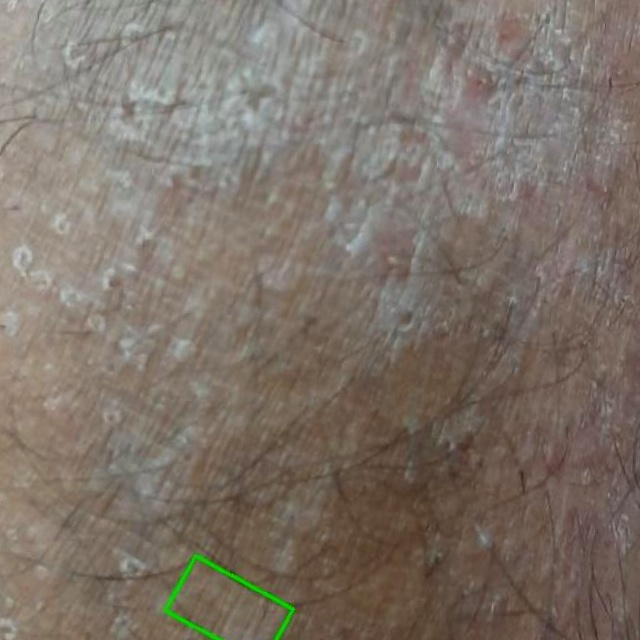Contact Dermatitis: (164, 557, 292, 639)
